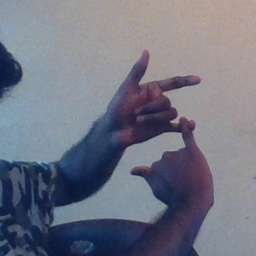S: (106, 47, 225, 198)
